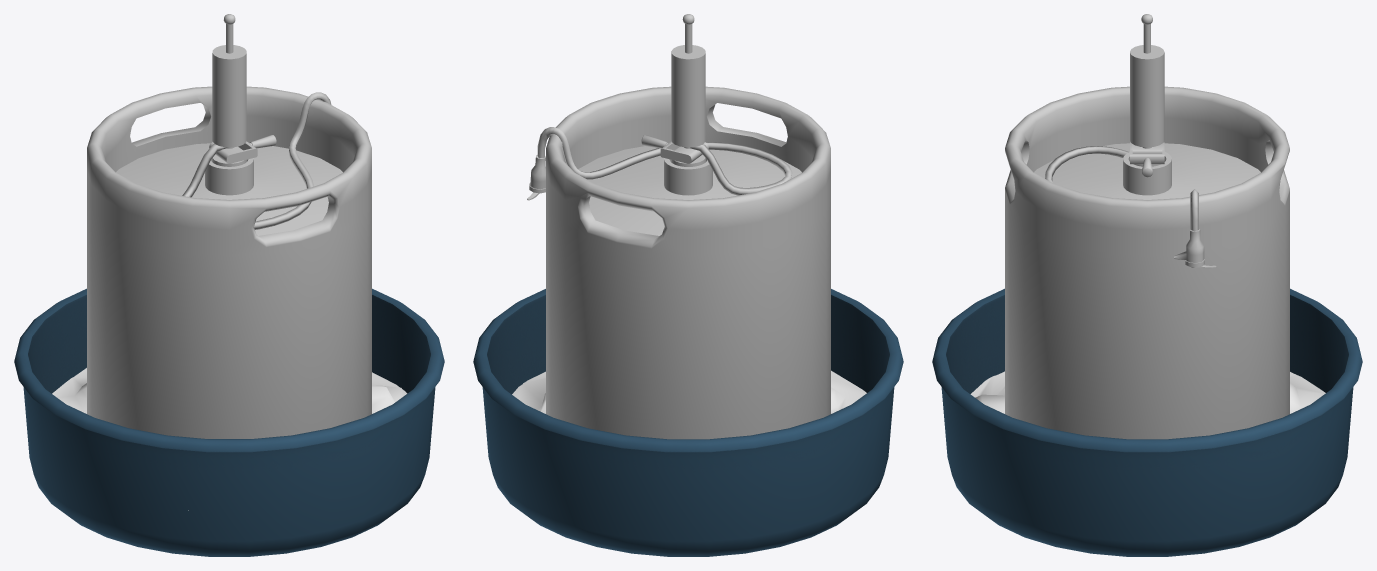
Rendered from keg_01.fbx.
The picture shows the model from 3 angles, left to right: view 1: azimuth 30°, elevation 25°; view 2: azimuth 150°, elevation 25°; view 3: azimuth 270°, elevation 25°; orthographic projection.
Parts seen in each view (by area): view 1: keg_01, keg_01 ice bowl, keg_01 tap connect, keg_01 tap; view 2: keg_01, keg_01 ice bowl, keg_01 tap connect, keg_01 tap; view 3: keg_01, keg_01 ice bowl, keg_01 tap connect, keg_01 tap.
Boxes of the visible parts, x1,y1,x2,y2 form: keg_01: (87, 86, 371, 438); keg_01 ice bowl: (14, 288, 444, 556); keg_01 tap connect: (209, 14, 276, 166); keg_01 tap: (182, 92, 331, 229); keg_01: (546, 86, 830, 439); keg_01 ice bowl: (473, 289, 903, 556); keg_01 tap connect: (641, 14, 708, 166); keg_01 tap: (527, 127, 792, 200); keg_01: (1005, 86, 1289, 439); keg_01 ice bowl: (932, 288, 1362, 556); keg_01 tap connect: (1129, 14, 1164, 177); keg_01 tap: (1045, 146, 1216, 268).
Size of the model in its own units: 110 by 132 by 110.
